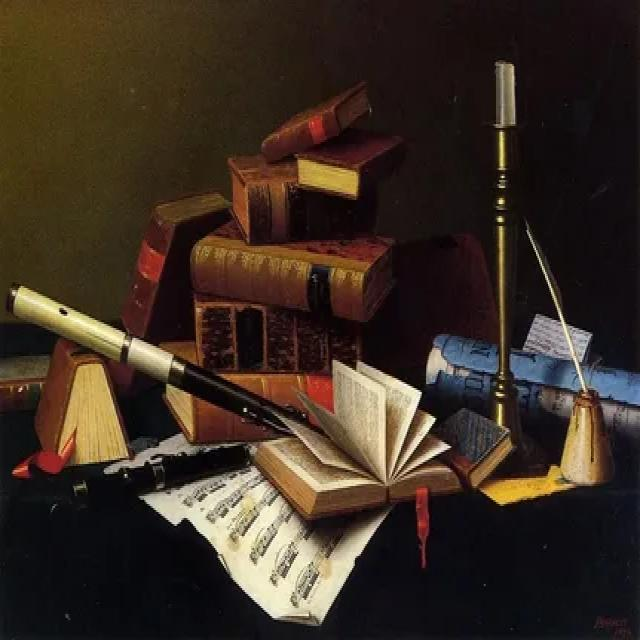book: (246, 348, 464, 534)
